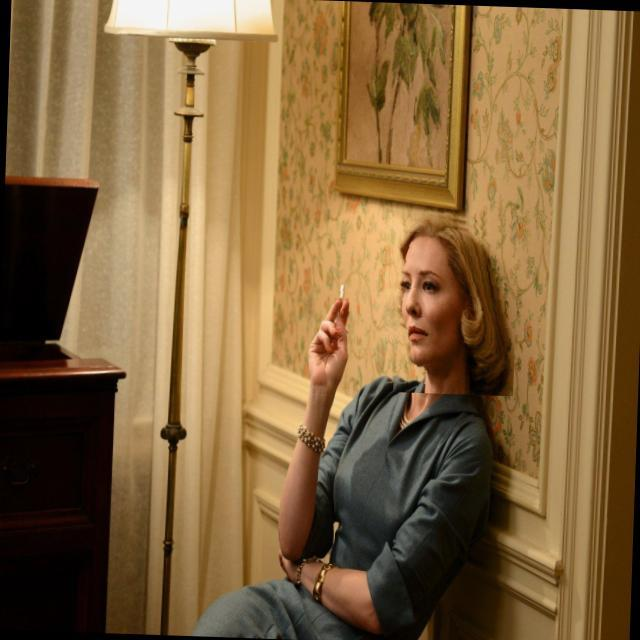cigarette: (336, 282, 352, 334)
